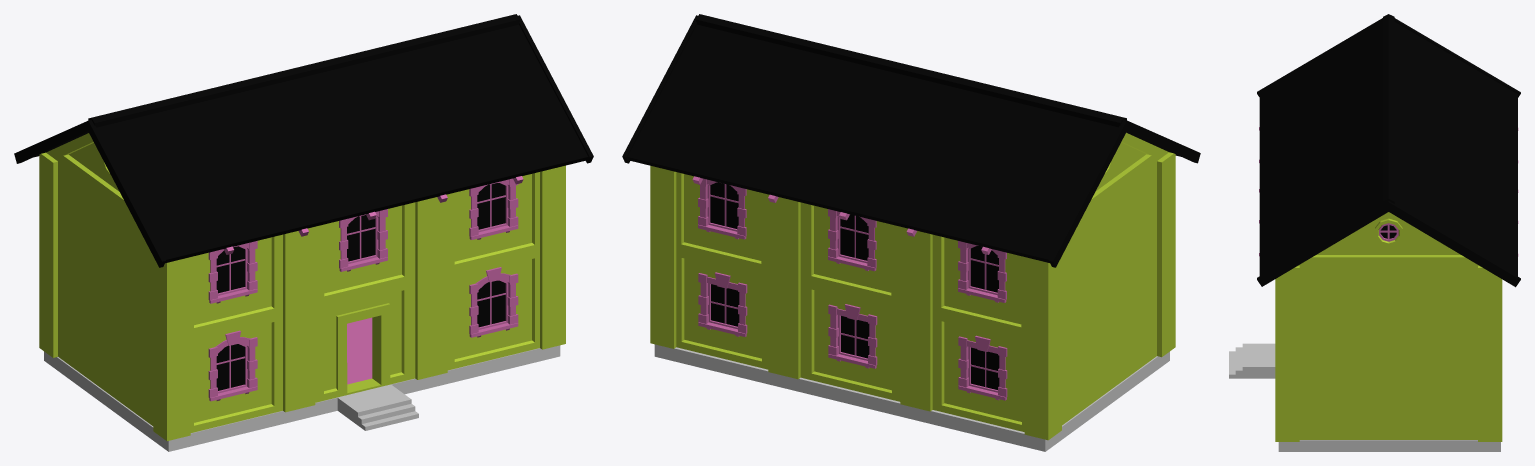
The model's file is SM_recreation_building.fbx.
3 views of the same model, side by side, from view 1: azimuth 30°, elevation 25°; view 2: azimuth 150°, elevation 25°; view 3: azimuth 270°, elevation 25° (orthographic). The views are drawn at different scales.
Parts seen in each view (by area): view 1: Cube_9, Cube_8; view 2: Cube_9, Cube_8; view 3: Cube_8, Cube_9.
Part boxes in pixels (x1,y1,x2,y2): Cube_9: (39, 133, 565, 451); Cube_8: (14, 14, 593, 267); Cube_9: (650, 132, 1175, 451); Cube_8: (622, 14, 1200, 267); Cube_8: (1257, 14, 1520, 287); Cube_9: (1229, 127, 1518, 451).
Size of the model in its own units: 1388 by 900 by 912.
